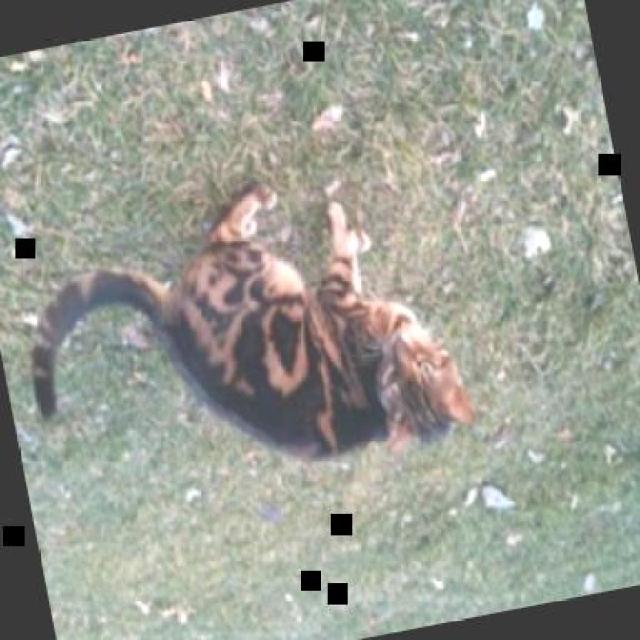cat: (3, 147, 477, 519)
